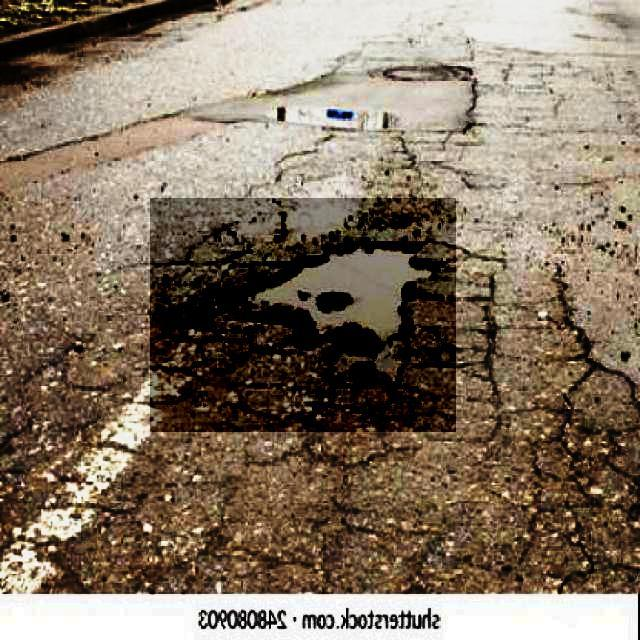pothole: (150, 198, 456, 432)
